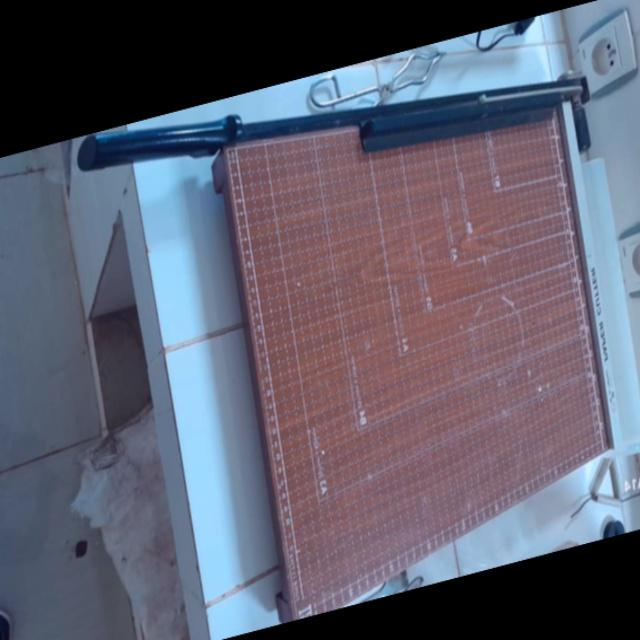TLC Cutter: (59, 7, 638, 640)
